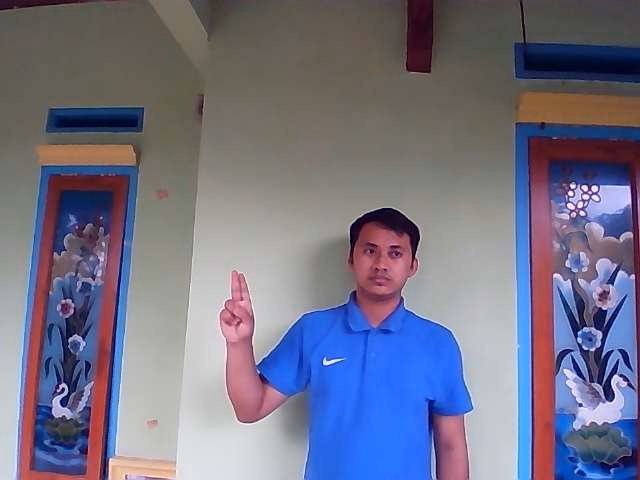U: (218, 269, 255, 343)
